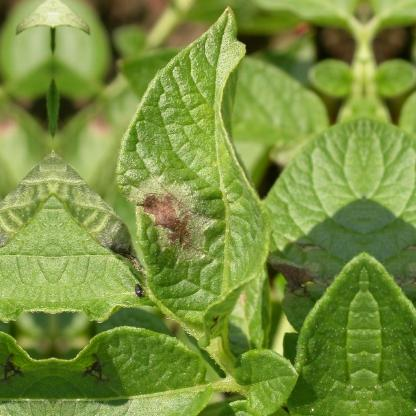Early-Blight: (105, 6, 279, 342)
